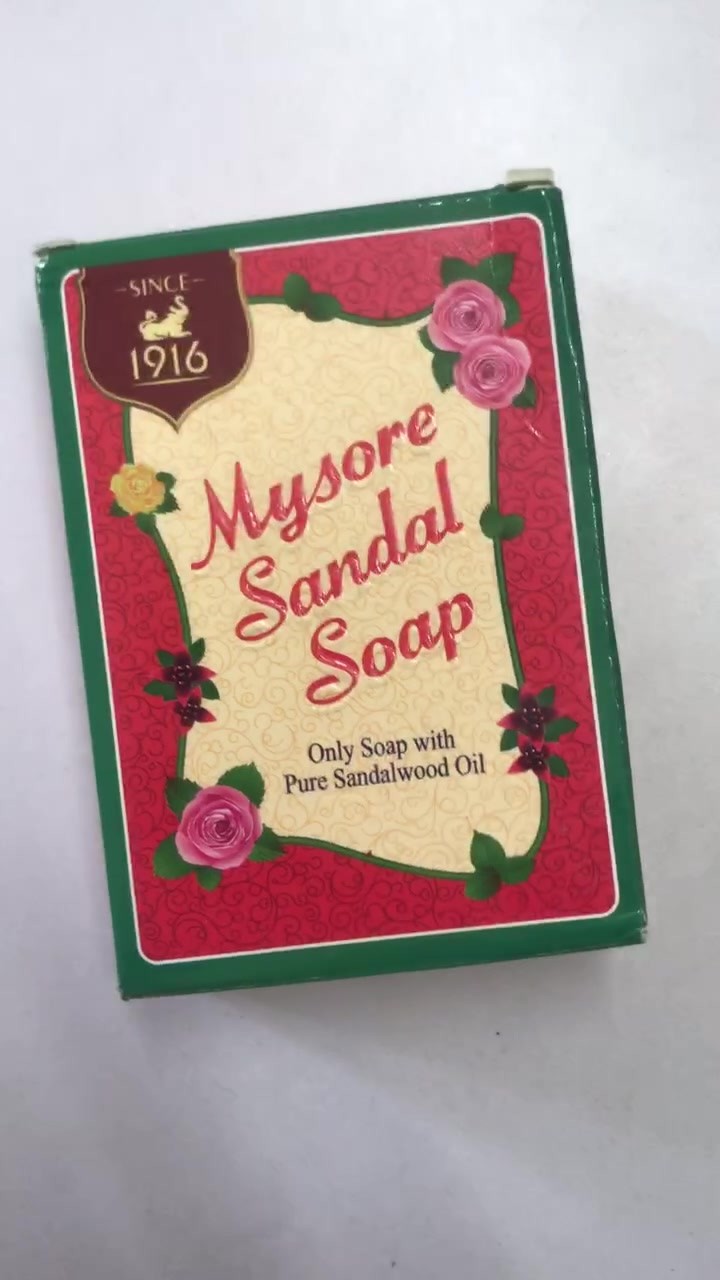mysore sandal soap: (37, 184, 646, 1000)
